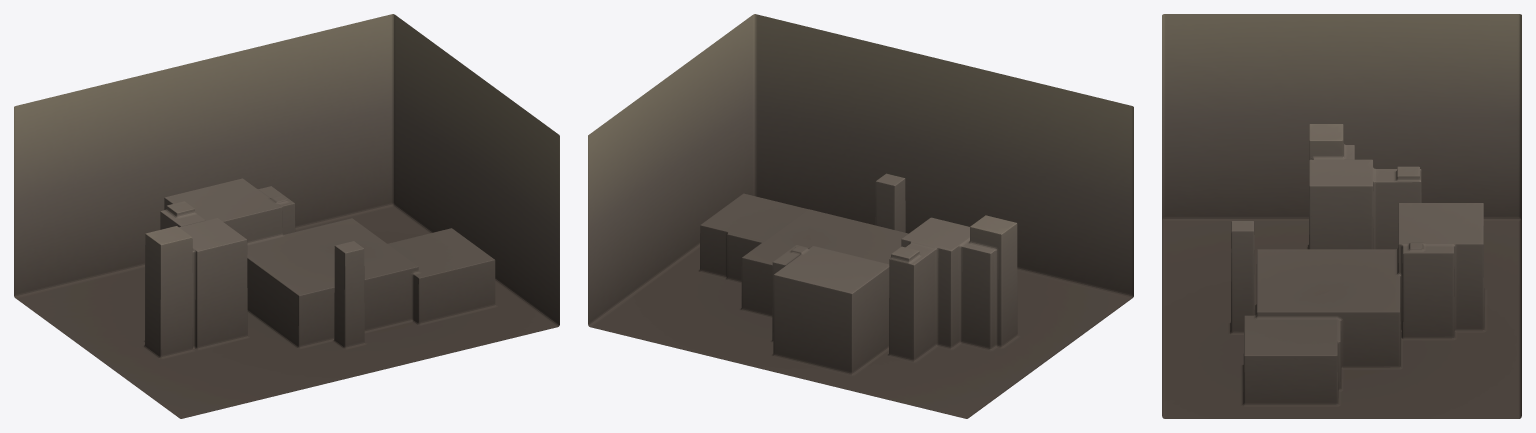
The model's file is weaverdeep_col.glb.
The picture shows the model from 3 angles, left to right: view 1: azimuth 30°, elevation 25°; view 2: azimuth 150°, elevation 25°; view 3: azimuth 270°, elevation 25°; orthographic projection. The views are drawn at different scales.
Visible parts, largest first — view 1: geometry_0; view 2: geometry_0; view 3: geometry_0.
Boxes of the visible parts, x1,y1,x2,y2 form: geometry_0: [14, 14, 559, 418]; geometry_0: [588, 14, 1133, 418]; geometry_0: [1162, 14, 1521, 418].
Size of the model in its own units: 140 by 67.44 by 107.
